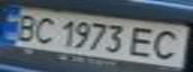1: (54, 17, 78, 48)
3: (106, 21, 130, 55)
7: (87, 20, 109, 52)
9: (69, 18, 93, 51)
B: (9, 11, 42, 42)
C: (145, 27, 190, 62), (27, 15, 60, 45)
E: (124, 25, 163, 58)
